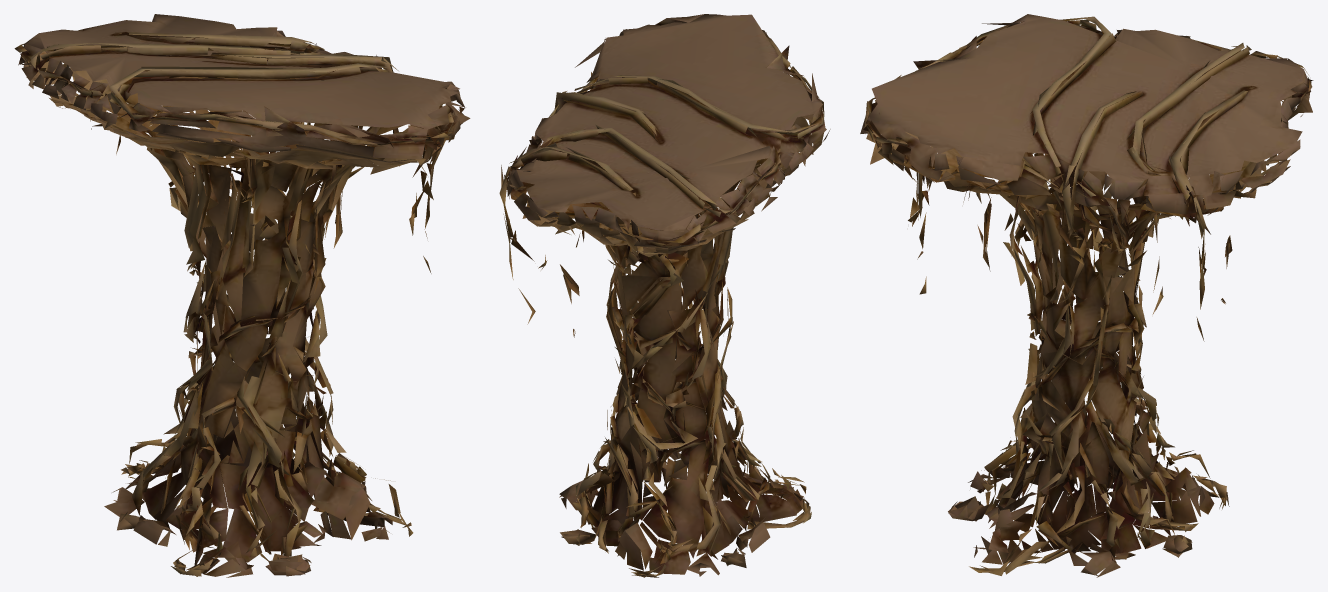
File: jun_hanging_root_curtain_LOD2.glb
3 renders of one model, left to right at view 1: azimuth 30°, elevation 25°; view 2: azimuth 150°, elevation 25°; view 3: azimuth 270°, elevation 25°, orthographic. The views are drawn at different scales.
Parts seen in each view (by area): view 1: tripo_node_cadc6c69-84e1-40cb-8351-e614b4902560; view 2: tripo_node_cadc6c69-84e1-40cb-8351-e614b4902560; view 3: tripo_node_cadc6c69-84e1-40cb-8351-e614b4902560.
Boxes of the visible parts, left/top/right/bottom form: tripo_node_cadc6c69-84e1-40cb-8351-e614b4902560: left=14, top=14, right=470, bottom=577; tripo_node_cadc6c69-84e1-40cb-8351-e614b4902560: left=499, top=14, right=830, bottom=577; tripo_node_cadc6c69-84e1-40cb-8351-e614b4902560: left=860, top=14, right=1313, bottom=577.
Size of the model in its own units: 0.6794 by 1.03 by 0.9142.
Materials: 1 (1 with a texture image).
